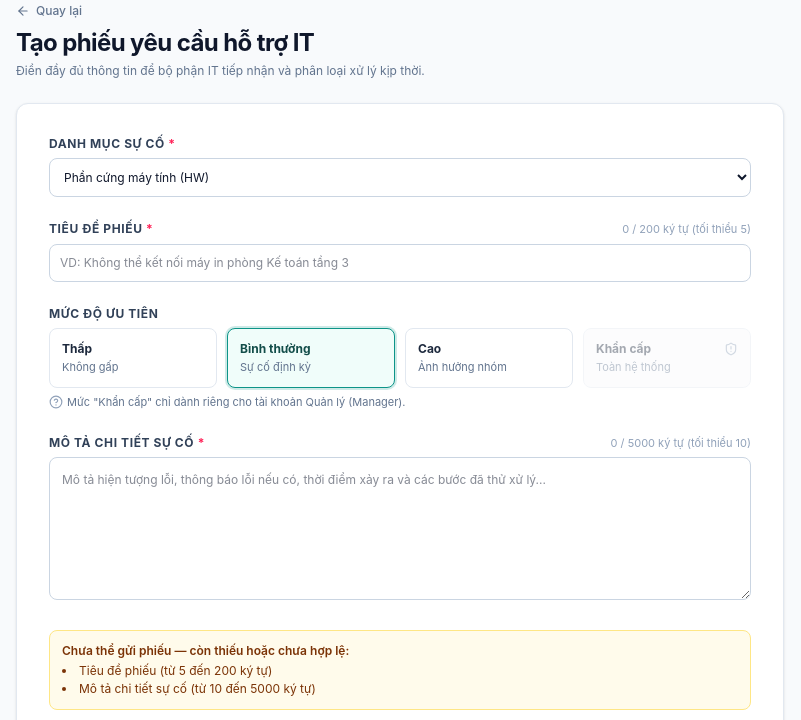
it: CreateTicketPage Component › submits valid ticket and renders success message with ticket ID
Type "Hỏng bàn phím phòng họp" into the field labelled "Tiêu đề phiếu *". click: (400, 262)
box: x1=49 y1=244 x2=751 y2=282
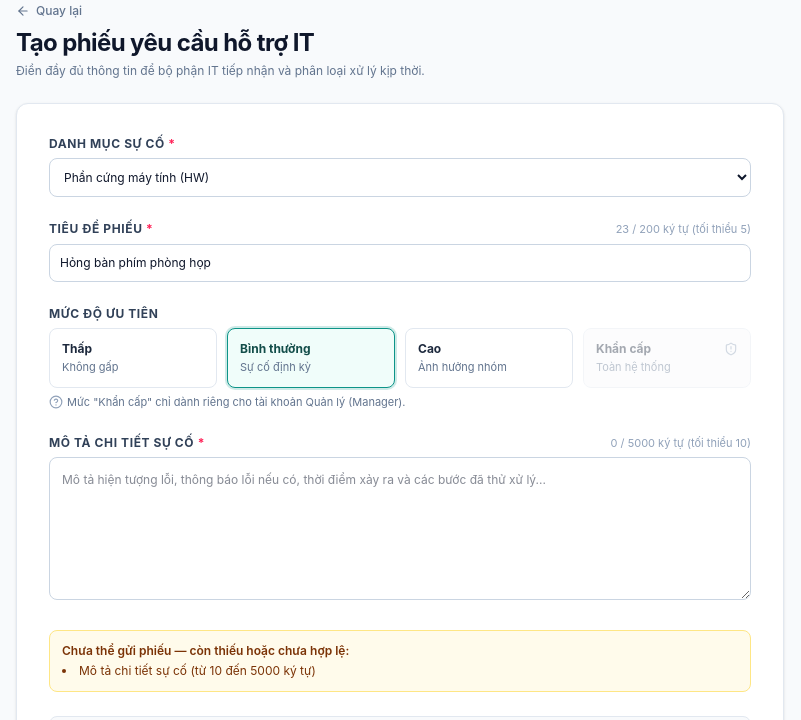
Replace the text in the text box labelled "Mô tả chi tiết sự cố *" with "Bàn phím cơ bị liệt toàn bộ hàng phím số sau khi cắm lại cổng USB.". click: (400, 528)
box: x1=49 y1=457 x2=751 y2=600
(page scrolled)
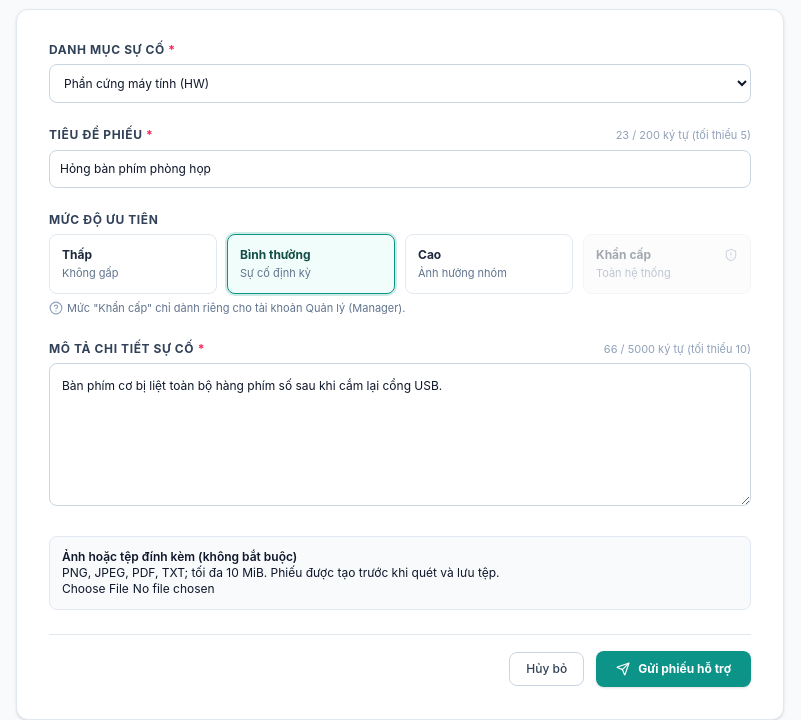
Click the button "Gửi phiếu hỗ trợ". click: (674, 669)
box: x1=596 y1=651 x2=751 y2=687
(page scrolled)
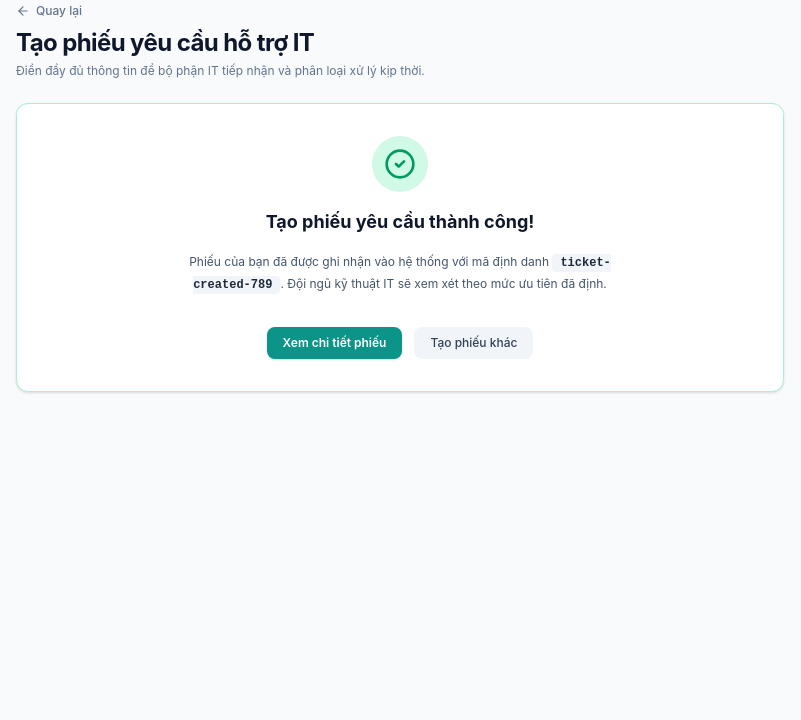
Expected: the heading "Tạo phiếu yêu cầu thành công!" is shown, x1=266 y1=211 x2=534 y2=232
Expected: the text "ticket-created-789" is shown, x1=193 y1=254 x2=611 y2=294
